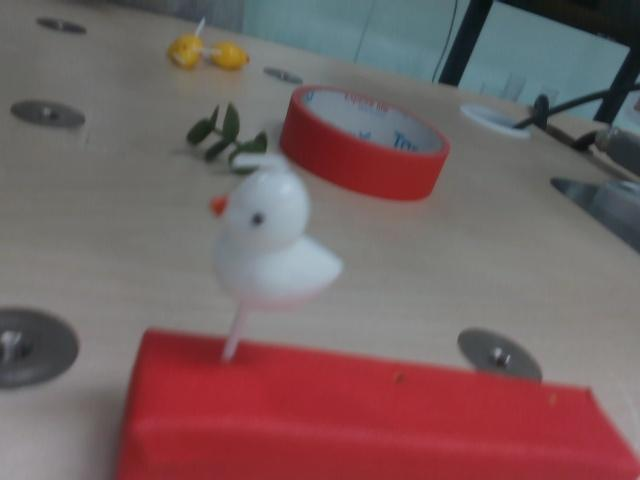w_duck: (191, 151, 351, 318)
